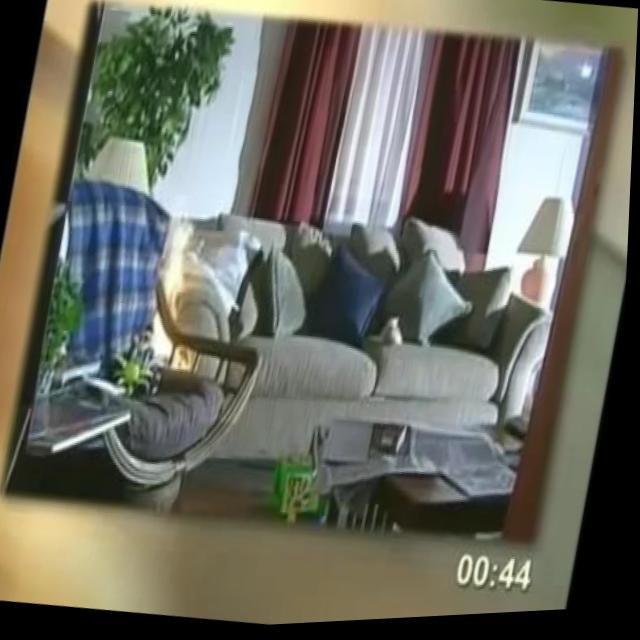fire: (144, 212, 224, 379)
